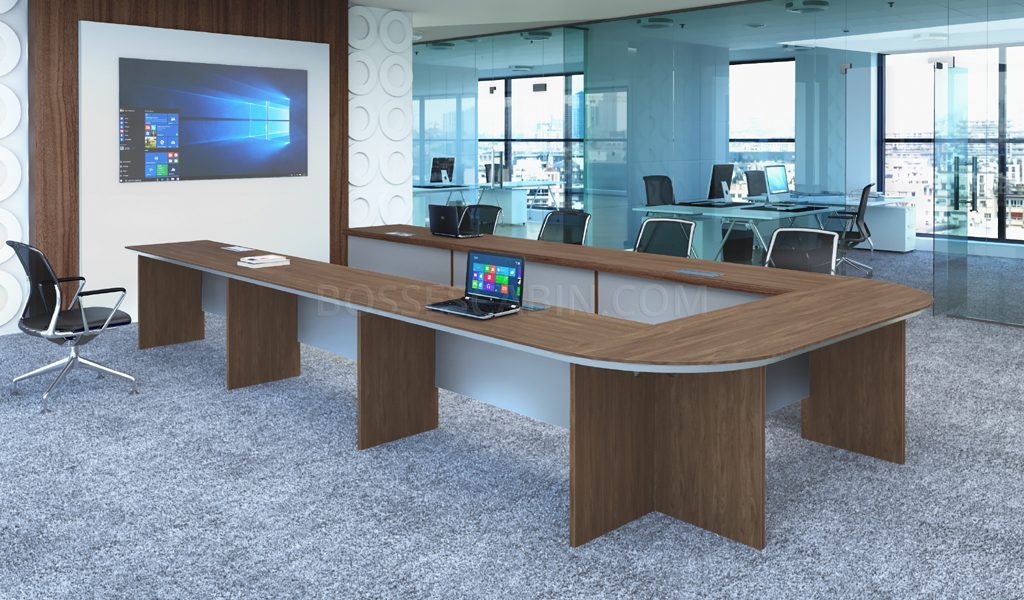conference_table: (123, 225, 935, 552)
